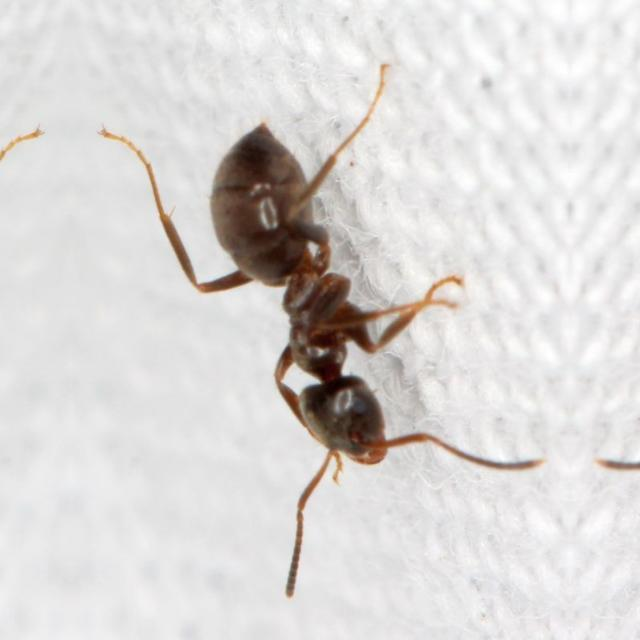Lasius: (138, 77, 510, 586)
